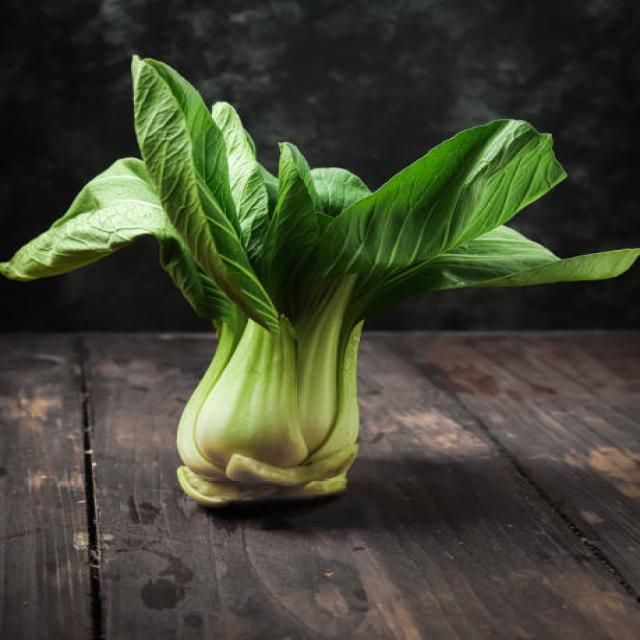bok choy: (33, 31, 632, 560)
